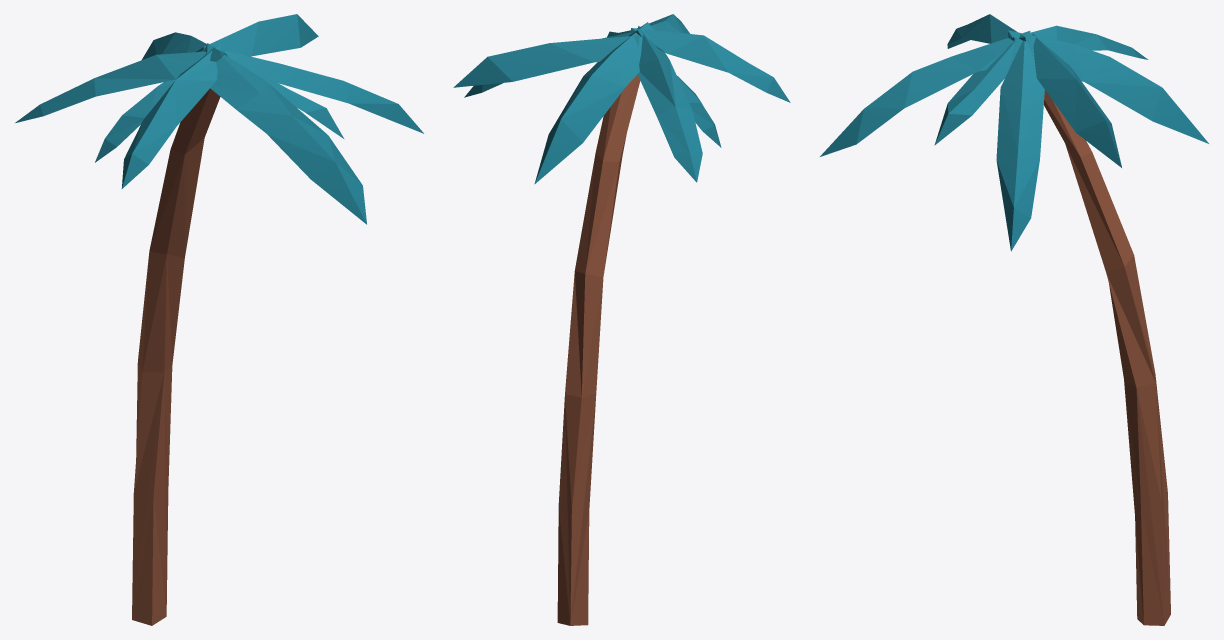
File: Tree_09_gradient_blue.fbx
The picture shows the model from 3 angles, left to right: view 1: azimuth 30°, elevation 25°; view 2: azimuth 150°, elevation 25°; view 3: azimuth 270°, elevation 25°; orthographic projection. The views are drawn at different scales.
Visible parts, largest first — view 1: Tree_09_gradient_blue; view 2: Tree_09_gradient_blue; view 3: Tree_09_gradient_blue.
Part boxes in pixels (x1,y1,x2,y2): Tree_09_gradient_blue: (15, 14, 423, 625); Tree_09_gradient_blue: (453, 14, 790, 625); Tree_09_gradient_blue: (820, 14, 1208, 625).
Size of the model in its own units: 128 by 228 by 137.
